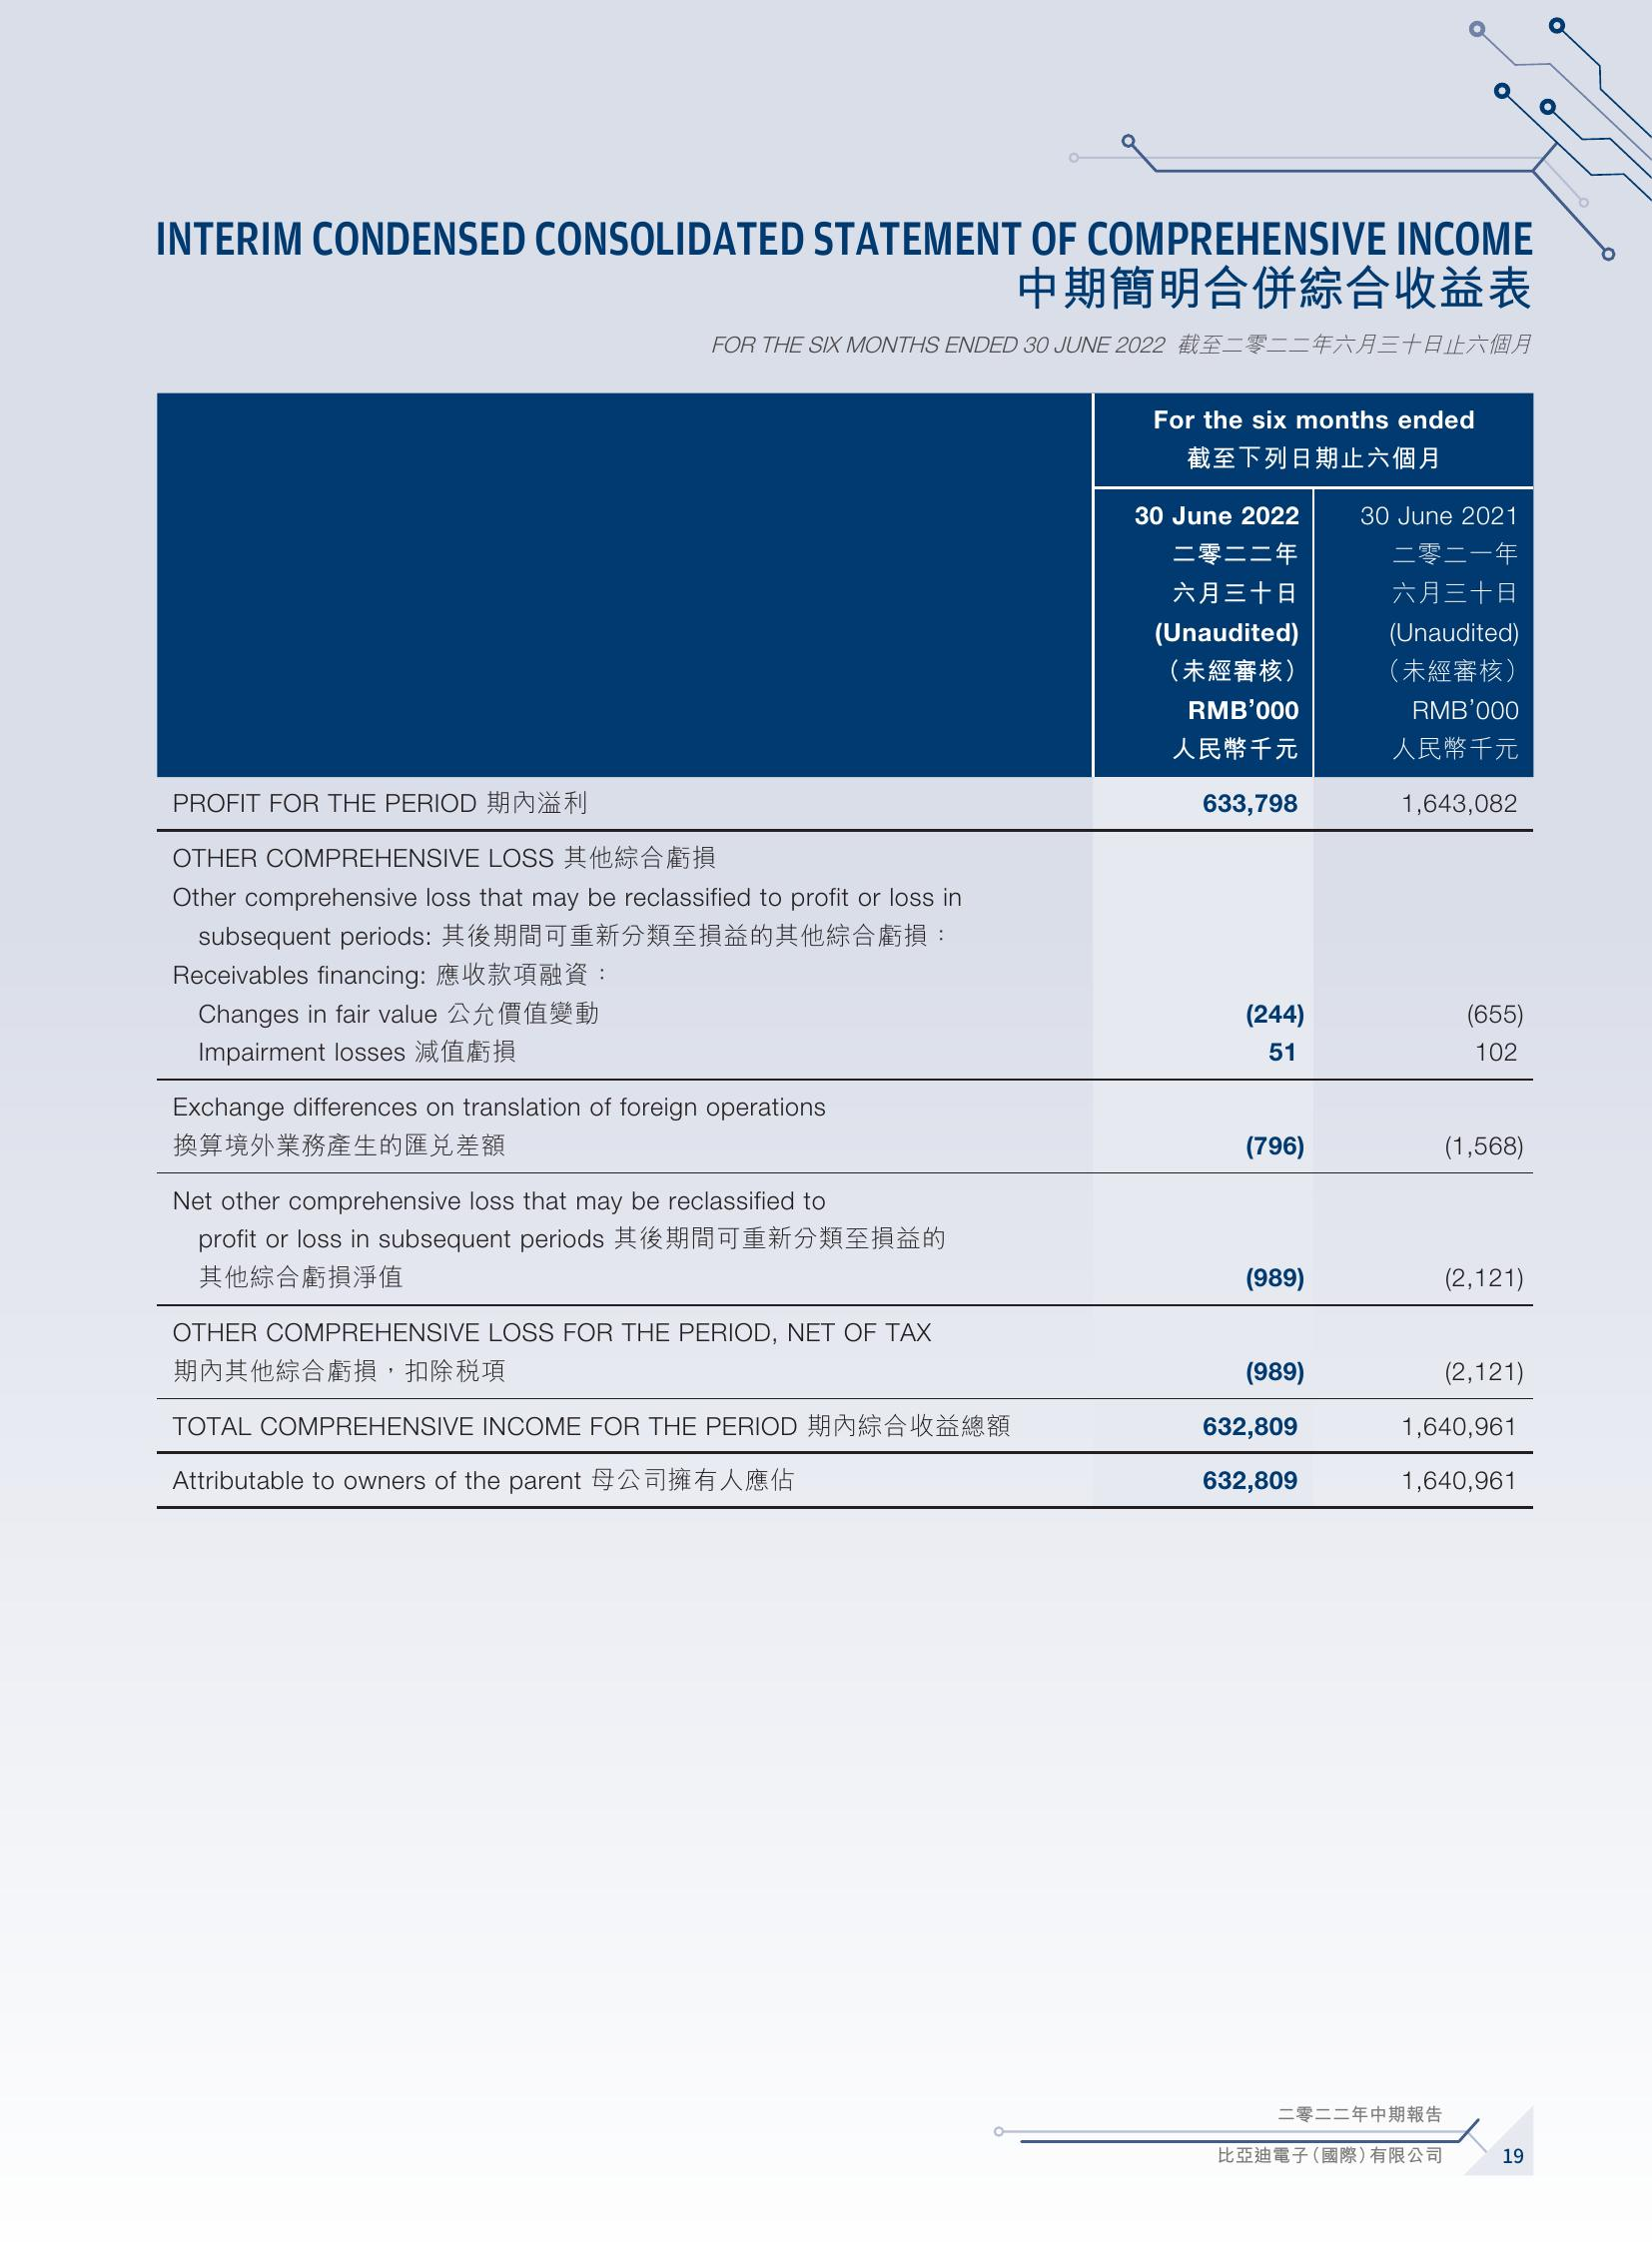Footer: (0, 2071, 1652, 2242)
Header: (0, 0, 1652, 188)
Table: (87, 362, 1591, 1539)
